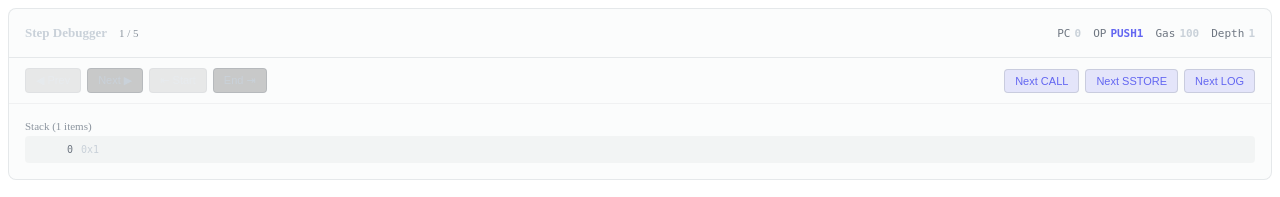
StepDebugger — button navigation › disables Prev at start and Next at end
Expected: the button titled "Previous step" is disabled, [25,68,81,93]
Click the button titled "Jump to end": [240, 80] box [213,68,267,93]
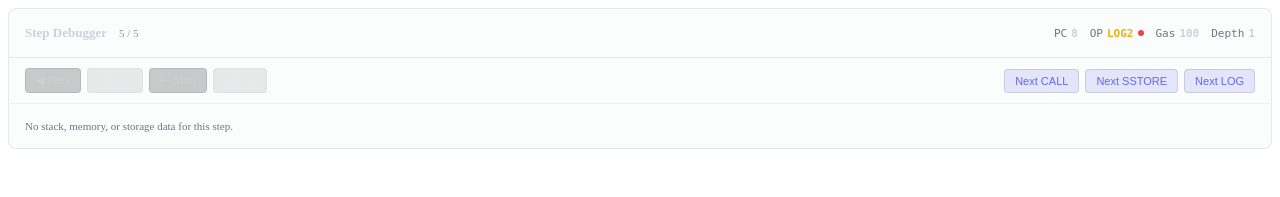
Expected: the button titled "Next step" is disabled, [87,68,143,93]
